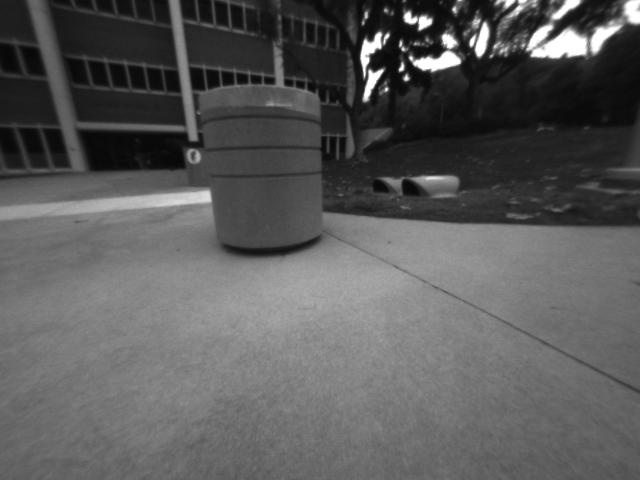trashcan: (196, 81, 326, 265), (182, 137, 214, 193)
